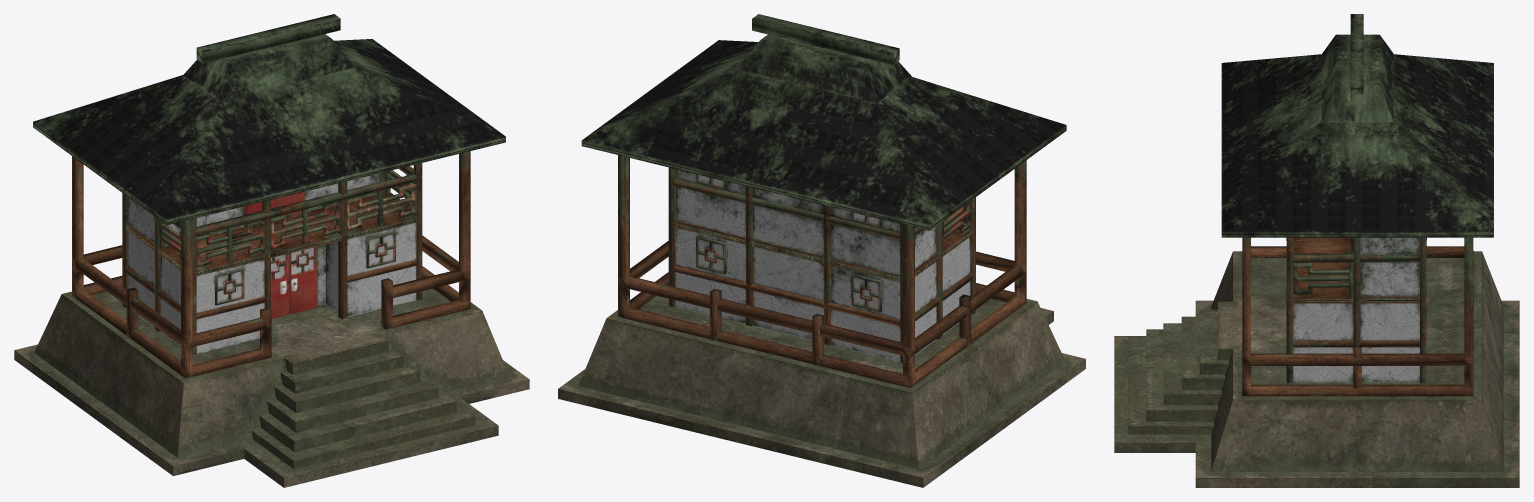
3 views of the same model, side by side, from view 1: azimuth 30°, elevation 25°; view 2: azimuth 150°, elevation 25°; view 3: azimuth 270°, elevation 25° (orthographic). The views are drawn at different scales.
Visible parts, largest first — view 1: Final_House (×2); view 2: Final_House (×2); view 3: Final_House (×2).
Boxes of the visible parts, left/top/right/bottom form: Final_House (×2): left=14, top=14, right=529, bottom=487; Final_House (×2): left=558, top=14, right=1085, bottom=487; Final_House (×2): left=1114, top=14, right=1519, bottom=487.
Size of the model in its own units: 2 by 1.84 by 1.93.
2 materials, 2 textured.
